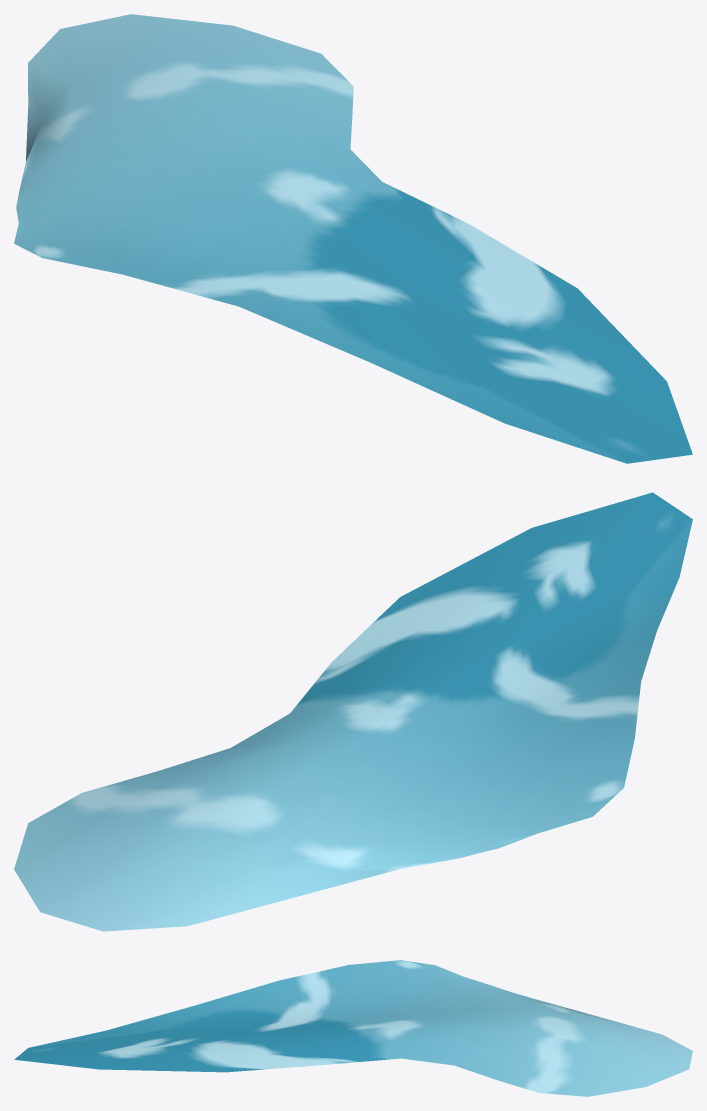
Rendered from Mod_Water_02.fbx.
3 views of the same model, one above another, from view 1: azimuth 30°, elevation 25°; view 2: azimuth 150°, elevation 25°; view 3: azimuth 270°, elevation 25° (orthographic). The views are drawn at different scales.
Visible parts, largest first — view 1: Mod_Water_02; view 2: Mod_Water_02; view 3: Mod_Water_02.
Part boxes in pixels (box(x1,y1,x2,y2)): Mod_Water_02: box(14, 14, 692, 463); Mod_Water_02: box(14, 492, 692, 931); Mod_Water_02: box(14, 960, 692, 1096).
Size of the model in its own units: 89.37 by 8.71 by 208.
